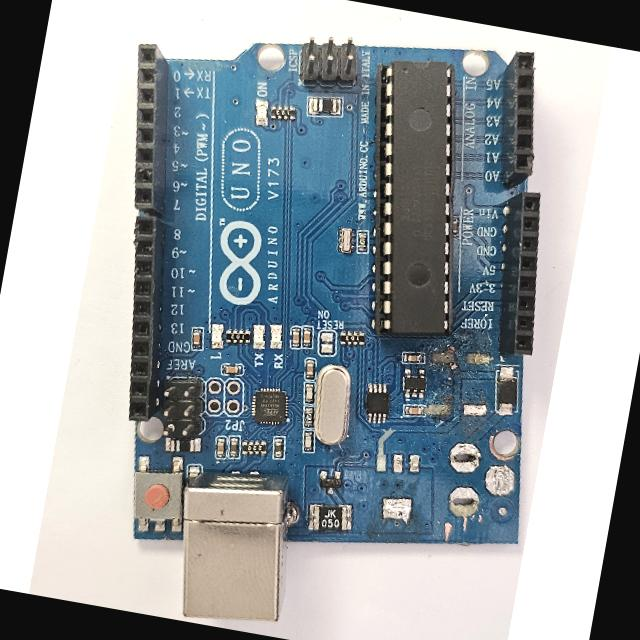missing_capacitors: (427, 345, 494, 432)
missing_eps: (443, 439, 503, 525)
missing_voltage_reg: (370, 447, 426, 529)
